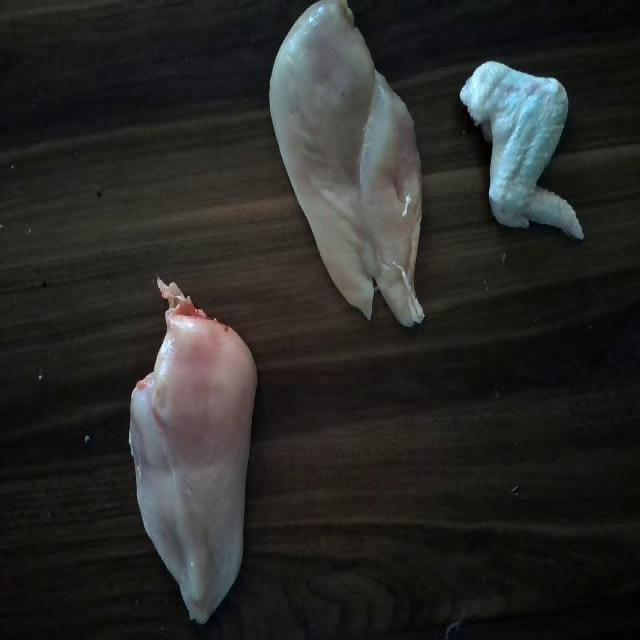breast: (123, 282, 258, 624), (271, 0, 403, 309)
wing: (460, 64, 595, 244)
